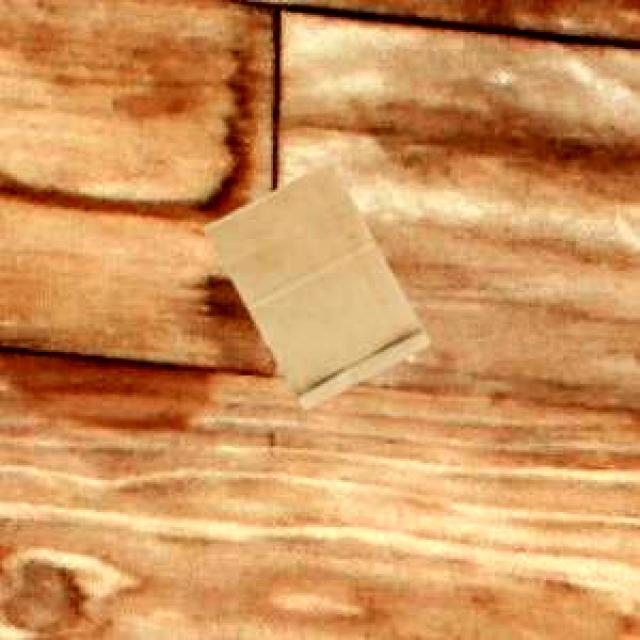Paper_Bag: (202, 158, 426, 406)
